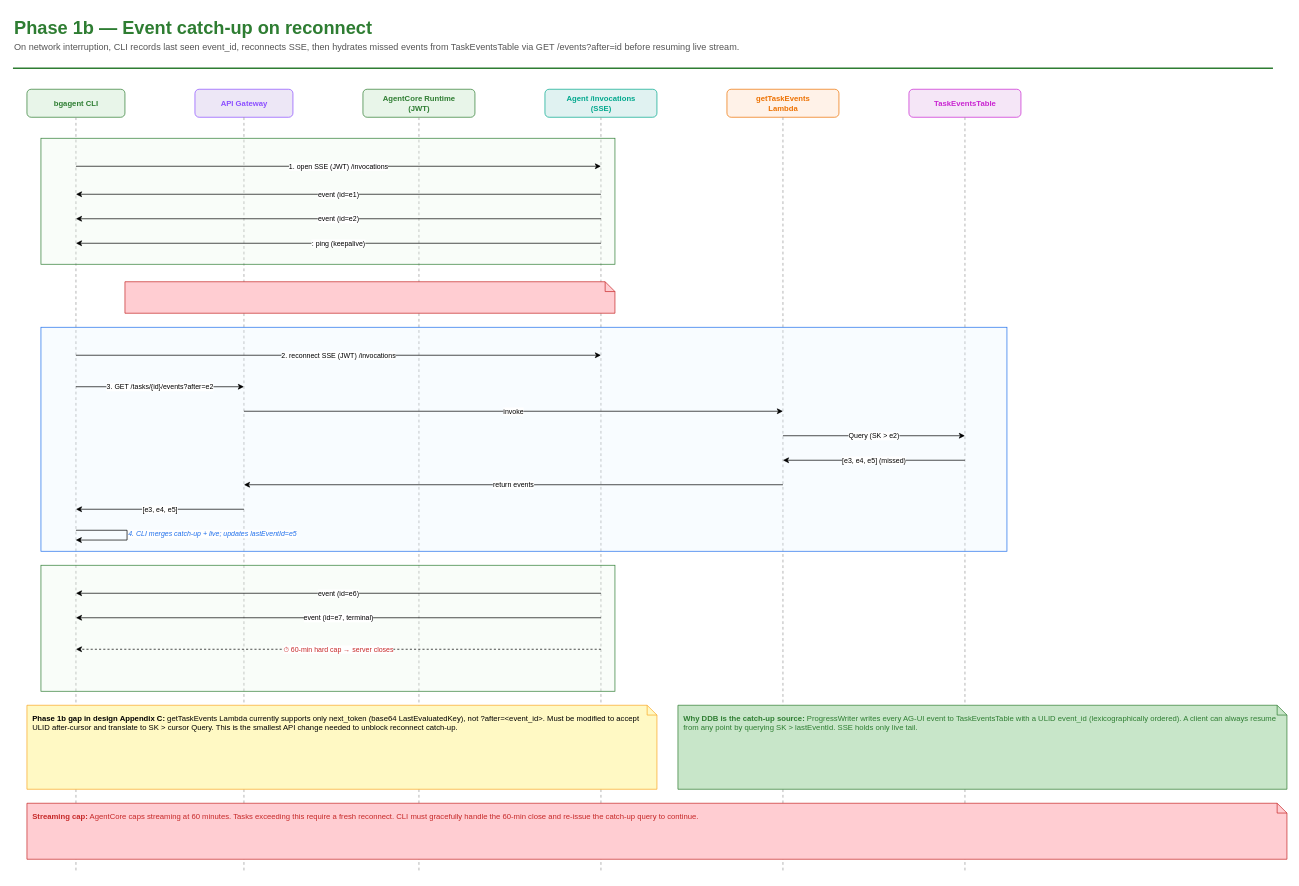
This 1299x886 diagram has some shape labels left out. Each missing label, with the box of its shape:
Phase 1 — initial SSE stream: (40, 138, 615, 264)
Phase 2 — reconnect + catch-up: (40, 327, 1007, 551)
Phase 3 — live resume: (40, 565, 615, 691)
✂ Network drop. CLI had lastEventId=e2.: (124, 281, 615, 313)
